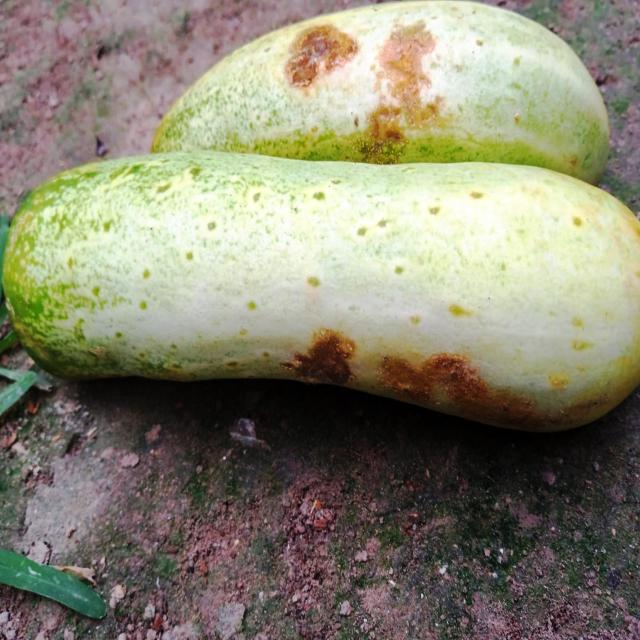Belly-Rot: (278, 322, 557, 428), (274, 15, 450, 150)
